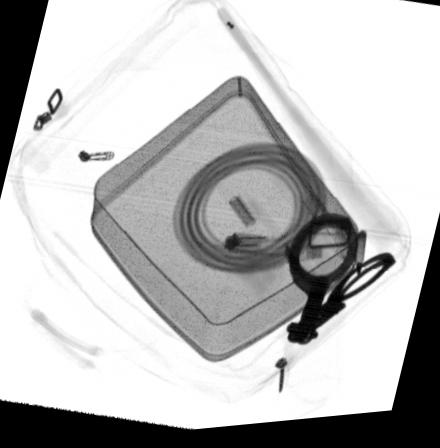Bullet: (354, 238, 366, 287)
HandCuffs: (282, 219, 396, 352)
